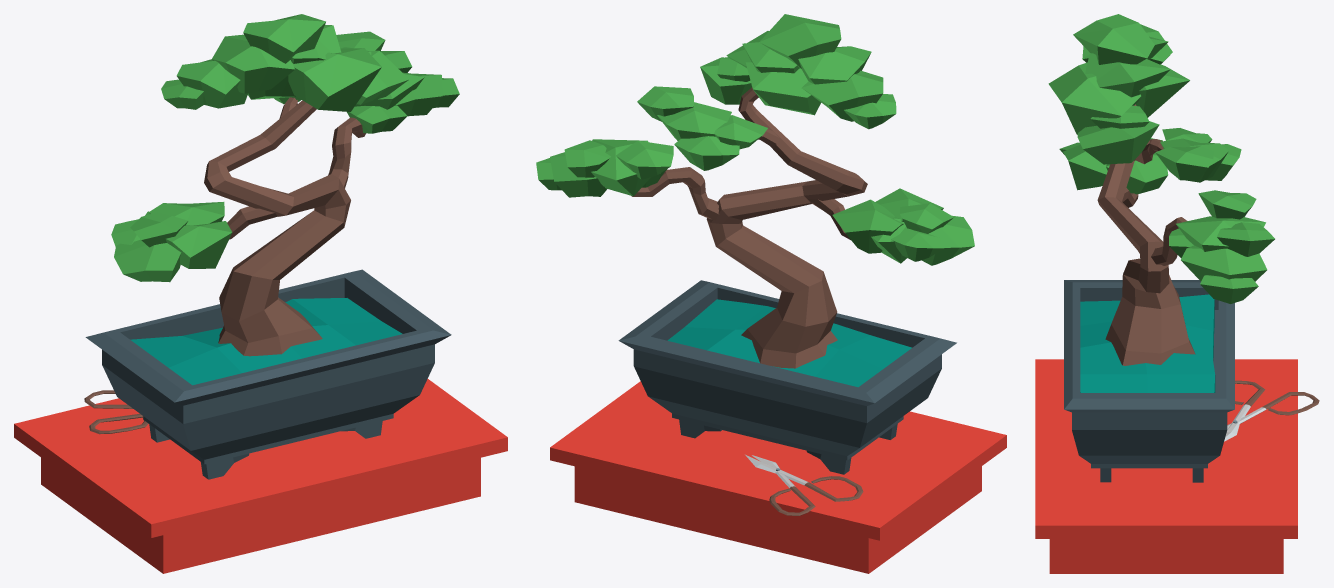
Rendered from bonsai-1.fbx.
The picture shows the model from 3 angles, left to right: view 1: azimuth 30°, elevation 25°; view 2: azimuth 150°, elevation 25°; view 3: azimuth 270°, elevation 25°; orthographic projection. The views are drawn at different scales.
Parts seen in each view (by area): view 1: group_430673059; view 2: group_430673059; view 3: group_430673059.
Boxes of the visible parts, x1,y1,x2,y2 form: group_430673059: (14,14,507,573); group_430673059: (536,14,1006,573); group_430673059: (1035,14,1319,573).
Bounding box in the file's own units: 153 × 178 × 97.41.
